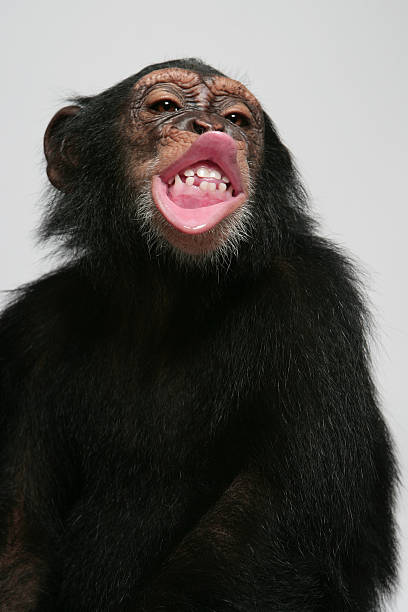chimpanzee: (15, 27, 329, 305)
